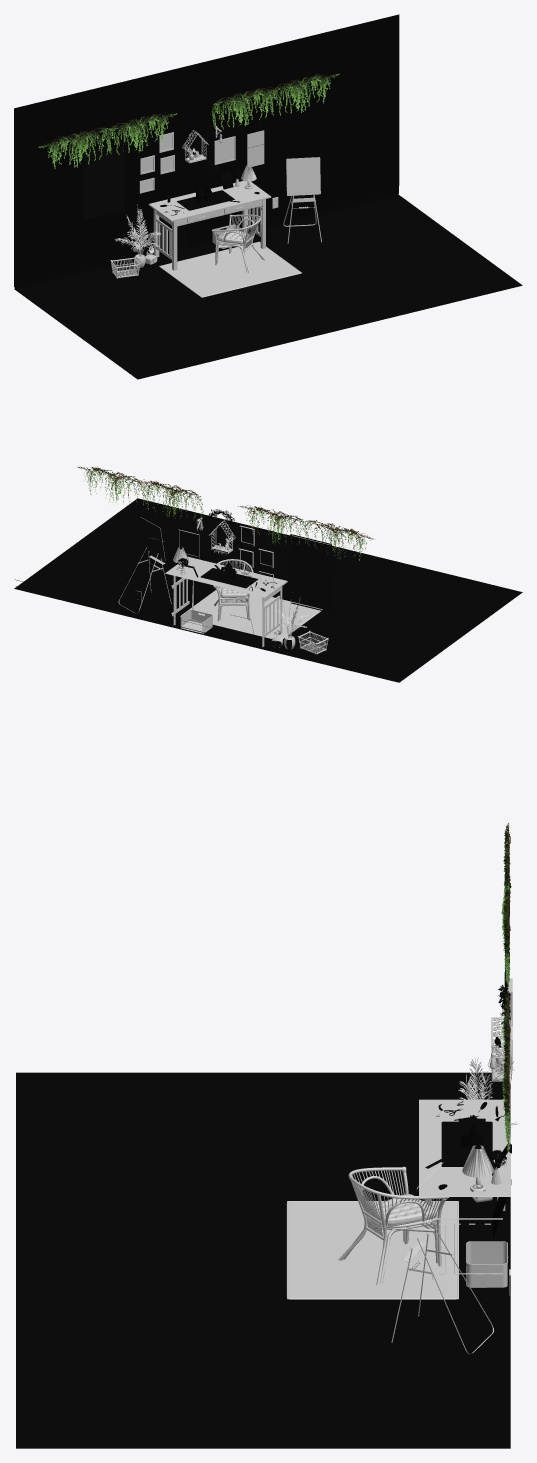
File: Room.glb
3 renders of one model, top to bottom at view 1: azimuth 30°, elevation 25°; view 2: azimuth 150°, elevation 25°; view 3: azimuth 270°, elevation 25°, orthographic. The views are drawn at different scales.
Parts seen in each view (by area): view 1: Fifth_Background_Baked, Sixth_Plants_Baked, Third_Desk_Baked, Seventh_Large_Stuff_Baked, Second_Photos_Baked, Eighth_Decor_Baked, Fourth_Extras_Baked, First_House_Baked; view 2: Fifth_Background_Baked, Sixth_Plants_Baked, Third_Desk_Baked, Seventh_Large_Stuff_Baked, Eighth_Decor_Baked, Fourth_Extras_Baked, First_House_Baked, Second_Photos_Baked; view 3: Fifth_Background_Baked, Third_Desk_Baked, Seventh_Large_Stuff_Baked, Sixth_Plants_Baked, First_House_Baked, Fourth_Extras_Baked, Eighth_Decor_Baked.
Part boxes in pixels (x1=…): Fifth_Background_Baked: x1=14, y1=14, x2=522, y2=379; Sixth_Plants_Baked: x1=38, y1=73, x2=339, y2=194; Third_Desk_Baked: x1=148, y1=181, x2=271, y2=273; Seventh_Large_Stuff_Baked: x1=83, y1=126, x2=321, y2=248; Second_Photos_Baked: x1=139, y1=130, x2=264, y2=193; Eighth_Decor_Baked: x1=110, y1=126, x2=256, y2=278; Fourth_Extras_Baked: x1=115, y1=197, x2=300, y2=267; First_House_Baked: x1=160, y1=176, x2=239, y2=215; Fifth_Background_Baked: x1=14, y1=498, x2=522, y2=682; Sixth_Plants_Baked: x1=76, y1=466, x2=375, y2=583; Third_Desk_Baked: x1=165, y1=556, x2=287, y2=647; Seventh_Large_Stuff_Baked: x1=118, y1=515, x2=331, y2=633; Eighth_Decor_Baked: x1=173, y1=517, x2=328, y2=654; Fourth_Extras_Baked: x1=130, y1=590, x2=311, y2=649; First_House_Baked: x1=200, y1=563, x2=276, y2=591; Second_Photos_Baked: x1=152, y1=525, x2=273, y2=586; Fifth_Background_Baked: x1=16, y1=1072, x2=510, y2=1448; Third_Desk_Baked: x1=338, y1=1099, x2=510, y2=1285; Seventh_Large_Stuff_Baked: x1=391, y1=903, x2=509, y2=1354; Sixth_Plants_Baked: x1=438, y1=823, x2=513, y2=1189; First_House_Baked: x1=425, y1=1100, x2=498, y2=1168; Fourth_Extras_Baked: x1=436, y1=1058, x2=519, y2=1343; Eighth_Decor_Baked: x1=462, y1=1013, x2=514, y2=1202.
Bounding box in the file's own units: 104 × 46.6 × 58.82.
